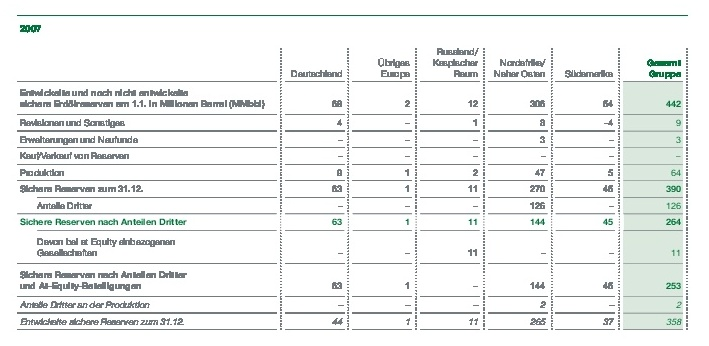table: (0, 0, 709, 346)
